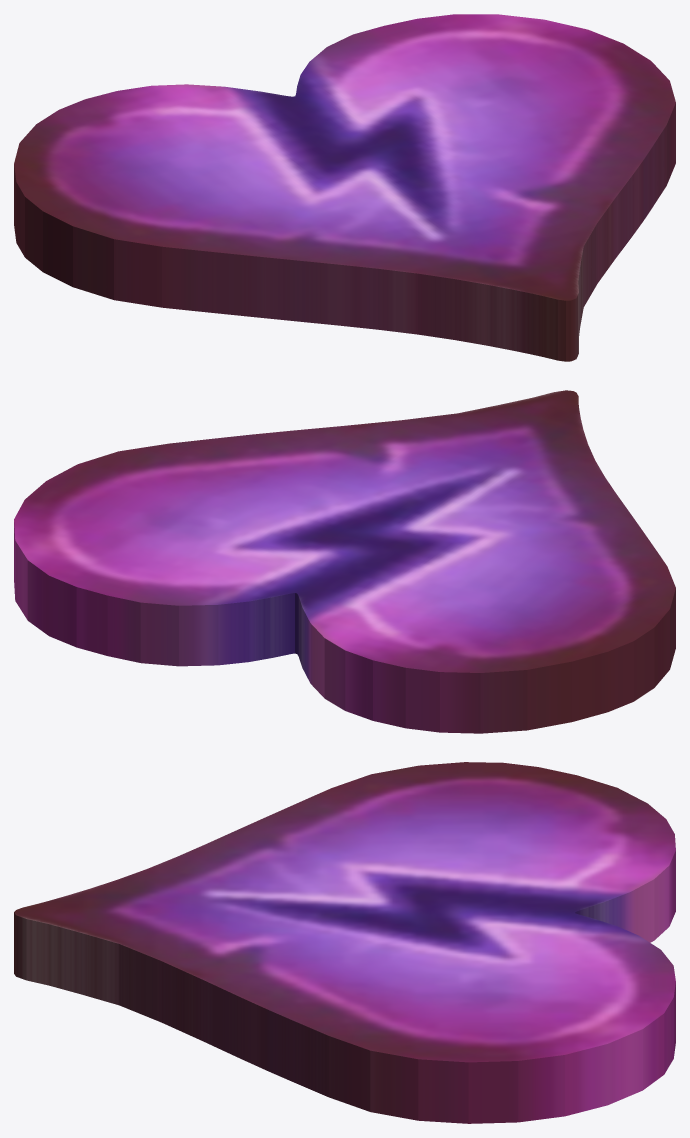
File: Lifesteal.glb
3 views of the same model, one above another, from view 1: azimuth 30°, elevation 25°; view 2: azimuth 150°, elevation 25°; view 3: azimuth 270°, elevation 25° (orthographic).
Visible parts, largest first — view 1: Lifesteal; view 2: Lifesteal; view 3: Lifesteal.
Part boxes in pixels (x1=…): Lifesteal: x1=14, y1=14, x2=675, y2=361; Lifesteal: x1=14, y1=390, x2=675, y2=733; Lifesteal: x1=14, y1=762, x2=675, y2=1123.
Size of the model in its own units: 0.5237 by 0.05 by 0.4879.
1 material, 1 textured.
